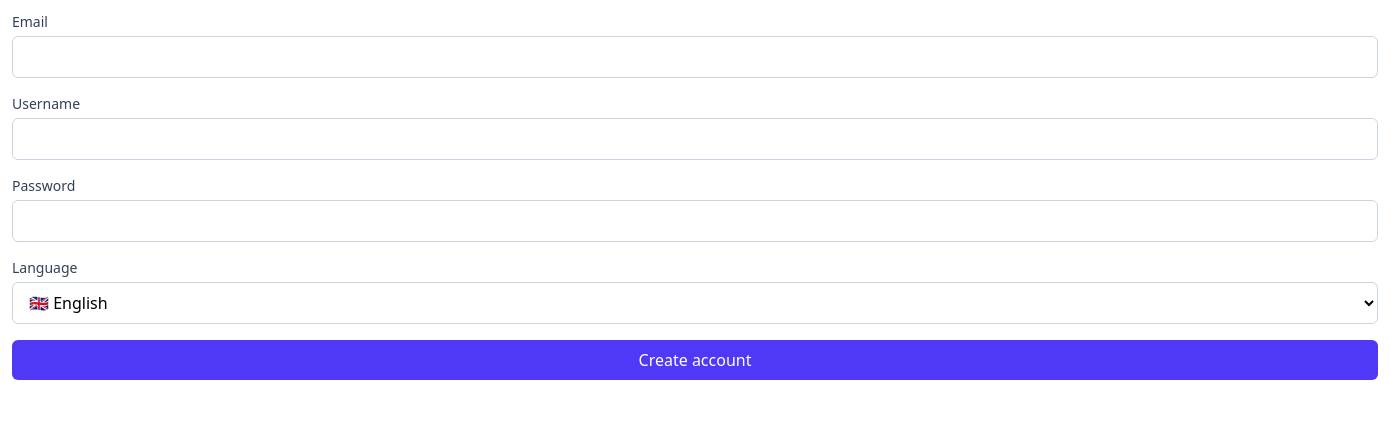
Test: SignupForm › maps a 409 username_taken response into a field-level error
The width and height of the screenshot is (1390, 422).
In the field labelled "Email": (695, 57) [12,36,1378,78], type "fresh@example.com"
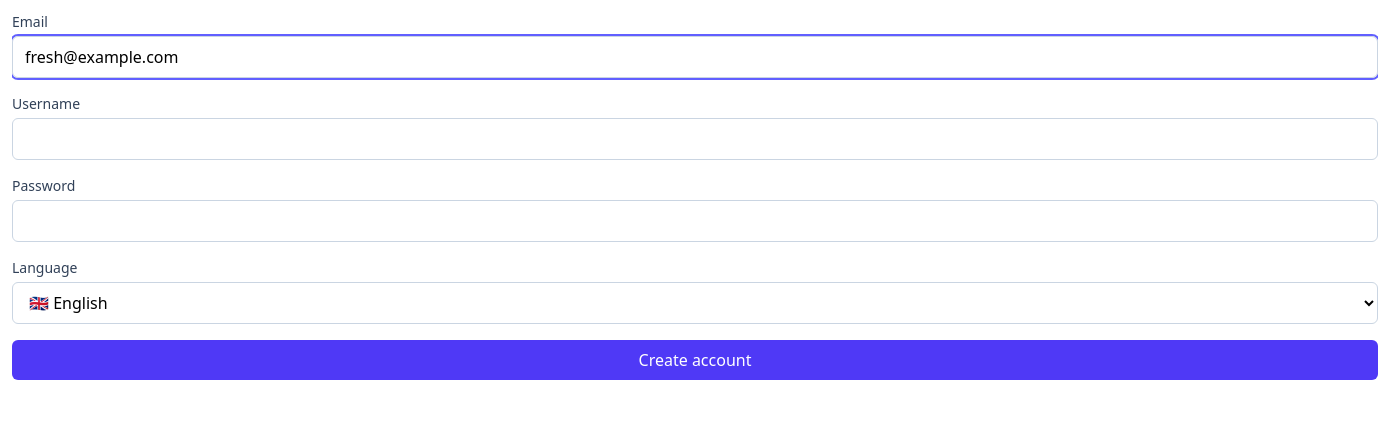
In the field labelled "Username": (695, 139) [12,118,1378,160], type "alice"
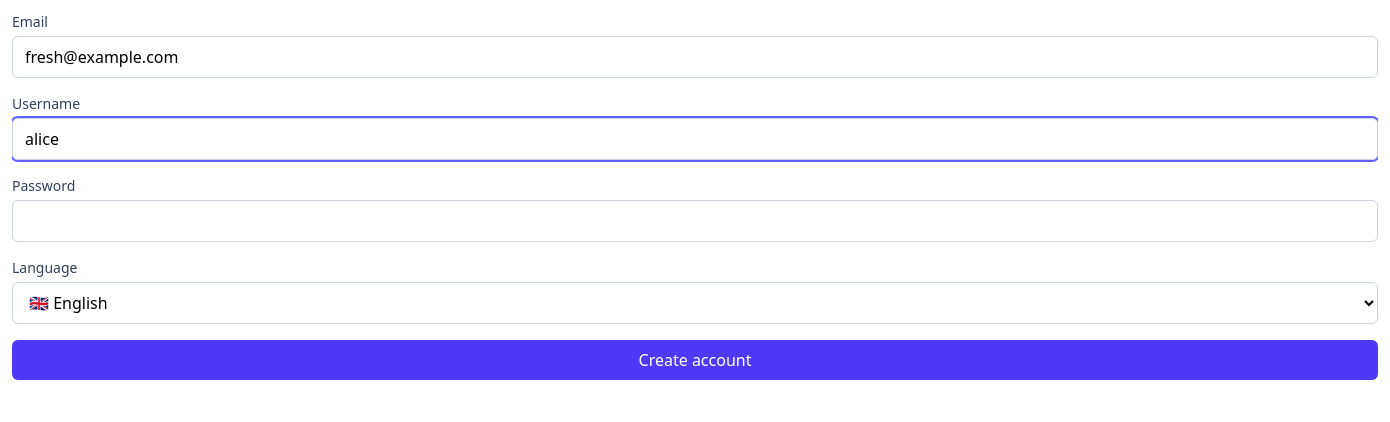
In the password field labelled "Password": (695, 221) [12,200,1378,242], type "correcthorsebatterystaple"
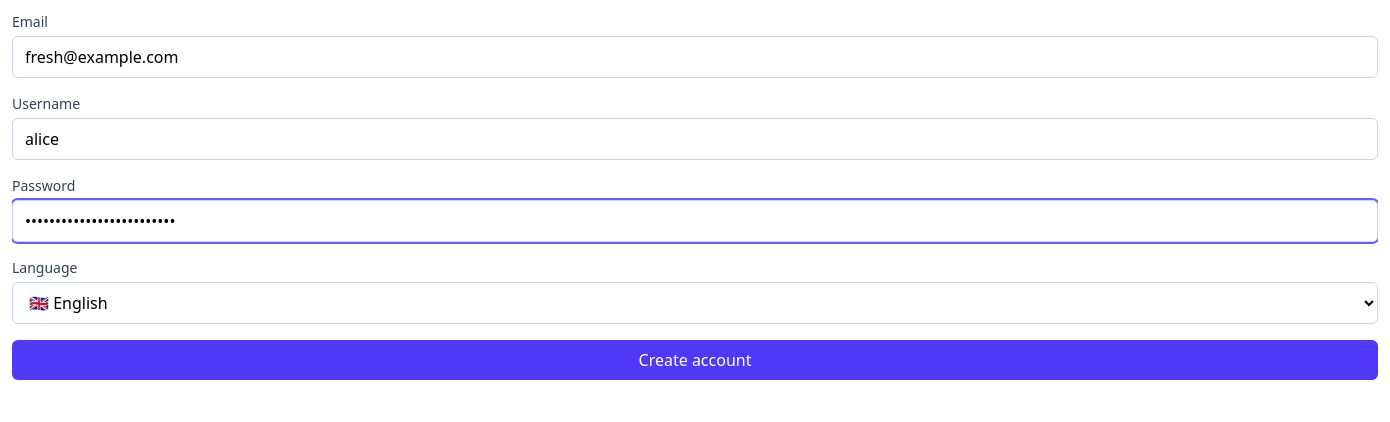
Click the button "Create account": (695, 360) [12,340,1378,380]
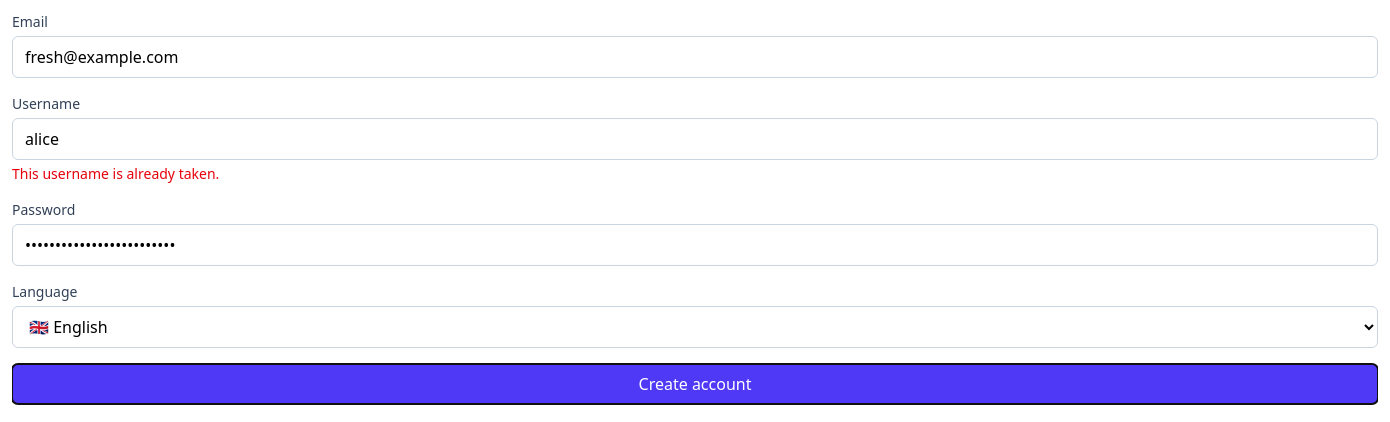
Now the text "This username is already taken." is shown, box [12,164,219,183]
